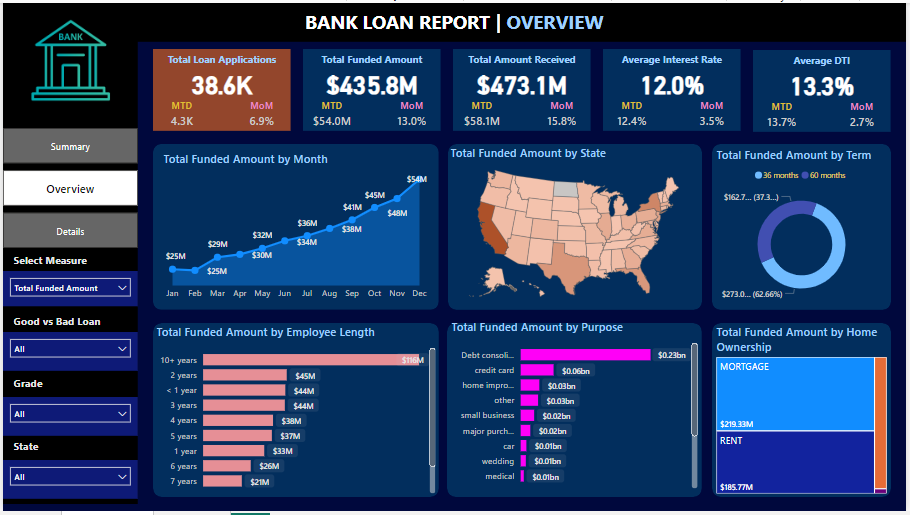

The dashboard page shown, as its layout file describes it:
{"tool":"powerbi","page":{"name":"Overview","canvas":[1280,720],"ordinal":1},"visuals":[{"type":"shape","box":[0,45.4,191.3,664.7],"z":0},{"type":"shape","box":[637.5,64.6,195.4,116.4],"z":0,"group":"g3"},{"type":"shape","box":[850.1,65,195.4,116.4],"z":0,"group":"g4"},{"type":"shape","box":[212.2,65.4,195.4,116.4],"z":0,"group":"g1"},{"type":"shape","box":[424.8,65.7,195.4,116.4],"z":0,"group":"g2"},{"type":"shape","box":[1062.7,66.1,195.4,116.4],"z":0,"group":"g5"},{"type":"slicer","fields":{"Values":["bank_loan_data.Good vs Bad Loan"]},"box":[0,466.1,191.3,55.3],"z":0,"group":"g8"},{"type":"slicer","fields":{"Values":["bank_loan_data.grade"]},"box":[0,558.8,191.3,55.3],"z":0,"group":"g6"},{"type":"slicer","fields":{"Values":["bank_loan_data.address_state"]},"box":[0,648.1,191.3,55.3],"z":0,"group":"g7"},{"type":"shape","box":[0,0,1280,55],"z":1000},{"type":"card","fields":{"Values":["bank_loan_data.Total Amount Received"]},"box":[637.5,91.9,195.4,43.1],"z":1000,"group":"g3"},{"type":"card","fields":{"Values":["bank_loan_data.Average Interest Rate"]},"box":[850.1,92.3,195.4,43.1],"z":1000,"group":"g4"},{"type":"card","fields":{"Values":["bank_loan_data.Total Loan Applications"]},"box":[212.2,92.7,195.4,43.1],"z":1000,"group":"g1"},{"type":"card","fields":{"Values":["bank_loan_data.Total Funded Amount"]},"box":[424.8,93,195.4,43.1],"z":1000,"group":"g2"},{"type":"card","fields":{"Values":["bank_loan_data.Average DTI"]},"box":[1062.7,93.4,195.4,43.1],"z":1000,"group":"g5"},{"type":"textbox","box":[9.9,434.5,161.6,32.6],"z":1000,"group":"g8"},{"type":"textbox","box":[9.9,523.4,86.5,35.4],"z":1000,"group":"g6"},{"type":"textbox","box":[9.9,612.7,86.5,35.4],"z":1000,"group":"g7"},{"type":"textbox","box":[637.5,64.6,195.4,37.4],"z":2000,"group":"g3"},{"type":"textbox","box":[850.1,65,195.4,37.4],"z":2000,"group":"g4"},{"type":"textbox","box":[212.2,65.4,195.4,37.4],"z":2000,"group":"g1"},{"type":"textbox","box":[424.8,65.7,195.4,37.4],"z":2000,"group":"g2"},{"type":"textbox","box":[1062.7,66.1,195.4,37.4],"z":2000,"group":"g5"},{"type":"textbox","box":[9.9,349.1,126.1,35.4],"z":2000,"group":"g9"},{"type":"card","title":"MTD","fields":{"Values":["bank_loan_data.MTD Total Amount Recieved"]},"box":[637.5,135,81.9,48.8],"z":3000,"group":"g3"},{"type":"card","title":"MTD","fields":{"Values":["bank_loan_data.MTD Average Interest Rate"]},"box":[850.1,135.4,81.9,48.8],"z":3000,"group":"g4"},{"type":"card","title":"MTD","fields":{"Values":["bank_loan_data.MTD Loan Applications"]},"box":[212.2,135.8,81.9,48.8],"z":3000,"group":"g1"},{"type":"card","title":"MTD","fields":{"Values":["bank_loan_data.MTD Funded Amount"]},"box":[424.8,136.1,81.9,48.8],"z":3000,"group":"g2"},{"type":"card","title":"MTD","fields":{"Values":["bank_loan_data.MTD Average DTI"]},"box":[1062.7,136.5,81.9,48.8],"z":3000,"group":"g5"},{"type":"shape","box":[212.6,199.8,405,235],"z":3000},{"type":"textbox","box":[415.7,2.9,448.6,48.6],"z":4000},{"type":"card","title":"MoM","fields":{"Values":["bank_loan_data.MoM Total Amount Received"]},"box":[751,135,81.9,48.8],"z":4000,"group":"g3"},{"type":"card","title":"MoM","fields":{"Values":["bank_loan_data.MoM Average Interest Rate"]},"box":[963.6,135.4,81.9,48.8],"z":4000,"group":"g4"},{"type":"card","title":"MoM","fields":{"Values":["bank_loan_data.MoM Loan Applications"]},"box":[325.7,135.8,81.9,48.8],"z":4000,"group":"g1"},{"type":"card","title":"MoM","fields":{"Values":["bank_loan_data.MoM Total Funded Amount"]},"box":[538.3,136.1,81.9,48.8],"z":4000,"group":"g2"},{"type":"card","title":"MoM","fields":{"Values":["bank_loan_data.MoM Average DTI"]},"box":[1176.2,136.5,81.9,48.8],"z":4000,"group":"g5"},{"type":"group","id":"g1","title":"Group 1","box":[212.2,65.4,195.4,119.2],"z":5000},{"type":"group","id":"g2","title":"Group 1","box":[424.8,65.7,195.4,119.2],"z":6000},{"type":"group","id":"g3","title":"Group 1","box":[637.5,64.6,195.4,119.2],"z":7000},{"type":"group","id":"g4","title":"Group 1","box":[850.1,65,195.4,119.2],"z":8000},{"type":"group","id":"g5","title":"Group 1","box":[1062.7,66.1,195.4,119.2],"z":9000},{"type":"group","id":"g6","title":"Group 2","box":[0,523.4,191.3,90.7],"z":10000},{"type":"group","id":"g7","title":"Group 2","box":[0,612.7,191.3,90.7],"z":11000},{"type":"group","id":"g8","title":"Group 2","box":[0,434.5,191.3,86.9],"z":12000},{"type":"areaChart","fields":{"Y":["bank_loan_data.Total Funded Amount"],"Category":["Date Table.Month"]},"box":[222.5,209.8,385.5,219.7],"z":13000},{"type":"slicer","fields":{"Values":["Select Measure.Select Measure"]},"box":[0,380.3,191.3,49.6],"z":14000,"group":"g9"},{"type":"shape","box":[630.7,199.8,360,235.3],"z":15000},{"type":"shapeMap","fields":{"Value":["bank_loan_data.Total Funded Amount"],"Category":["bank_loan_data.address_state"]},"box":[629.3,201.3,360,229.6],"z":16000},{"type":"shape","box":[1004.9,199.8,253.7,235.3],"z":17000},{"type":"donutChart","fields":{"Y":["bank_loan_data.Total Funded Amount"],"Category":["bank_loan_data.term"]},"box":[1006.3,204.1,250.9,228.2],"z":18000},{"type":"shape","box":[212.6,453.5,405.4,246.6],"z":19000},{"type":"barChart","fields":{"Y":["bank_loan_data.Total Funded Amount"],"Category":["bank_loan_data.emp_length"]},"box":[212.6,455,405.4,245.2],"z":20000},{"type":"shape","box":[629.3,453.5,361.4,246.6],"z":21000},{"type":"barChart","fields":{"Y":["bank_loan_data.Total Funded Amount"],"Category":["bank_loan_data.purpose"]},"box":[630.7,447.9,358.6,245.2],"z":22000},{"type":"shape","box":[1004.9,453.5,253.7,246.6],"z":23000},{"type":"treemap","fields":{"Values":["bank_loan_data.Total Funded Amount"],"Group":["bank_loan_data.home_ownership"]},"box":[1006.3,455,250.9,245.2],"z":24000},{"type":"pageNavigator","box":[0,177.2,191.3,170.1],"z":25000},{"type":"group","id":"g9","title":"Group 3","box":[0,349.1,191.3,80.8],"z":25001},{"type":"image","box":[0,0,191.3,161.6],"z":25002}]}

Visuals, with their boxes in screenshot pixels (x1, y1, x2, y2), scaled from the page's 1280x720 canvas onto the 910x515 screenshot:
shape: rect(0, 32, 136, 508)
shape: rect(453, 46, 592, 129)
shape: rect(604, 46, 743, 130)
shape: rect(151, 47, 290, 130)
shape: rect(302, 47, 441, 130)
shape: rect(756, 47, 894, 131)
slicer - bank_loan_data.Good vs Bad Loan: rect(0, 333, 136, 373)
slicer - bank_loan_data.grade: rect(0, 400, 136, 439)
slicer - bank_loan_data.address_state: rect(0, 464, 136, 503)
shape: rect(0, 0, 909, 39)
card - bank_loan_data.Total Amount Received: rect(453, 66, 592, 97)
card - bank_loan_data.Average Interest Rate: rect(604, 66, 743, 97)
card - bank_loan_data.Total Loan Applications: rect(151, 66, 290, 97)
card - bank_loan_data.Total Funded Amount: rect(302, 67, 441, 97)
card - bank_loan_data.Average DTI: rect(756, 67, 894, 98)
textbox: rect(7, 311, 122, 334)
textbox: rect(7, 374, 69, 400)
textbox: rect(7, 438, 69, 464)
textbox: rect(453, 46, 592, 73)
textbox: rect(604, 46, 743, 73)
textbox: rect(151, 47, 290, 74)
textbox: rect(302, 47, 441, 74)
textbox: rect(756, 47, 894, 74)
textbox: rect(7, 250, 97, 275)
"MTD" card: rect(453, 97, 511, 131)
"MTD" card: rect(604, 97, 663, 132)
"MTD" card: rect(151, 97, 209, 132)
"MTD" card: rect(302, 97, 360, 132)
"MTD" card: rect(756, 98, 814, 133)
shape: rect(151, 143, 439, 311)
textbox: rect(296, 2, 614, 37)
"MoM" card: rect(534, 97, 592, 131)
"MoM" card: rect(685, 97, 743, 132)
"MoM" card: rect(232, 97, 290, 132)
"MoM" card: rect(383, 97, 441, 132)
"MoM" card: rect(836, 98, 894, 133)
"Group 1" group: rect(151, 47, 290, 132)
"Group 1" group: rect(302, 47, 441, 132)
"Group 1" group: rect(453, 46, 592, 131)
"Group 1" group: rect(604, 46, 743, 132)
"Group 1" group: rect(756, 47, 894, 133)
"Group 2" group: rect(0, 374, 136, 439)
"Group 2" group: rect(0, 438, 136, 503)
"Group 2" group: rect(0, 311, 136, 373)
areaChart - bank_loan_data.Total Funded Amount x Date Table.Month: rect(158, 150, 432, 307)
slicer - Select Measure.Select Measure: rect(0, 272, 136, 307)
shape: rect(448, 143, 704, 311)
shapeMap - bank_loan_data.Total Funded Amount x bank_loan_data.address_state: rect(447, 144, 703, 308)
shape: rect(714, 143, 895, 311)
donutChart - bank_loan_data.Total Funded Amount x bank_loan_data.term: rect(715, 146, 894, 309)
shape: rect(151, 324, 439, 501)
barChart - bank_loan_data.Total Funded Amount x bank_loan_data.emp_length: rect(151, 325, 439, 501)
shape: rect(447, 324, 704, 501)
barChart - bank_loan_data.Total Funded Amount x bank_loan_data.purpose: rect(448, 320, 703, 496)
shape: rect(714, 324, 895, 501)
treemap - bank_loan_data.Total Funded Amount x bank_loan_data.home_ownership: rect(715, 325, 894, 501)
pageNavigator: rect(0, 127, 136, 248)
"Group 3" group: rect(0, 250, 136, 307)
image: rect(0, 0, 136, 116)
